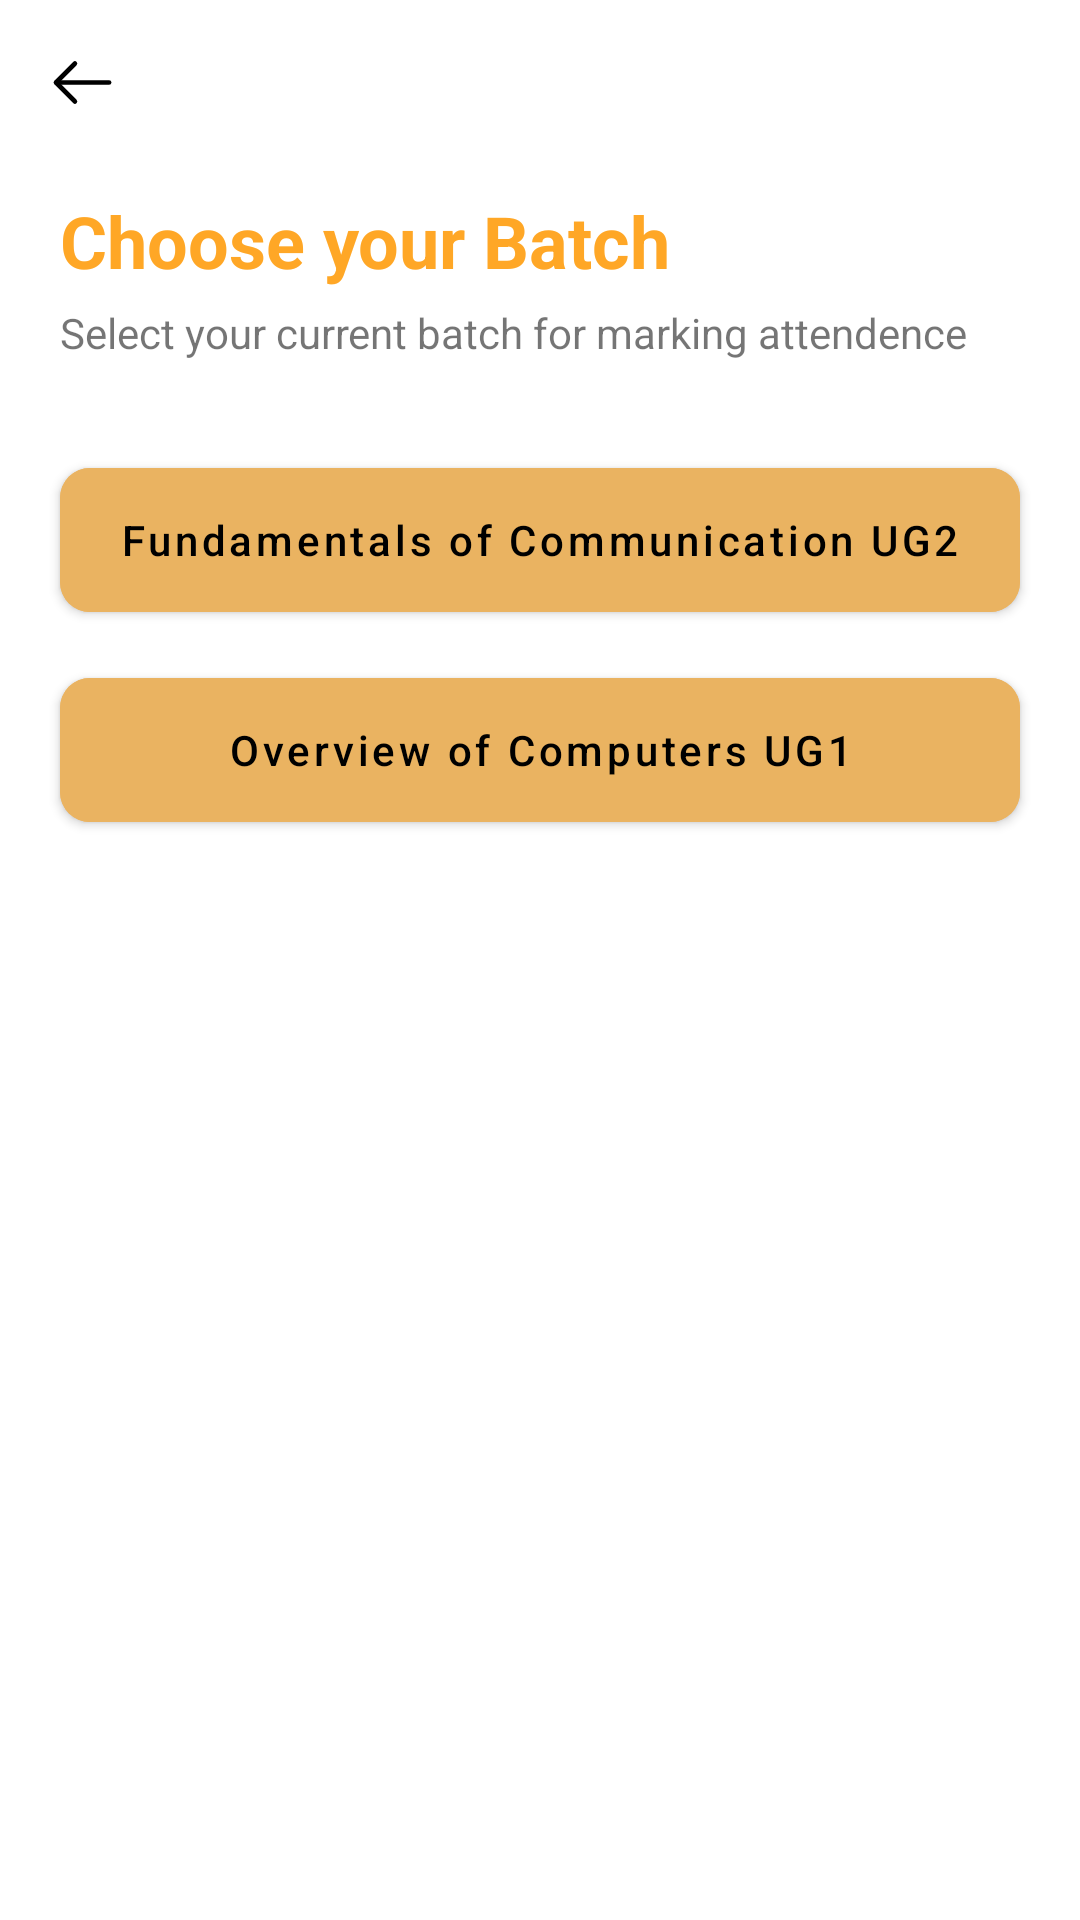

Where to tap for icons on this 1080 x 1920 app screen, as (x,y):
arrow left: (82,82)
